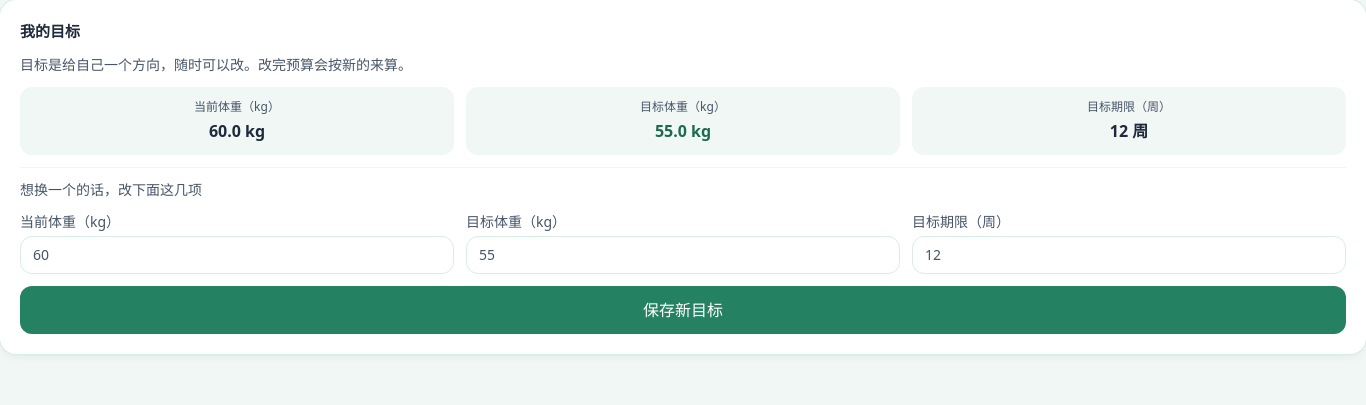
Test case: 「我的目标」卡片 · 提交（部分更新） › 成功后反馈文案中性（COPY.goalSaved）
Replace the text in the field with test id "goal-input-target" with "50" at (683,254), box x1=466 y1=236 x2=900 y2=274
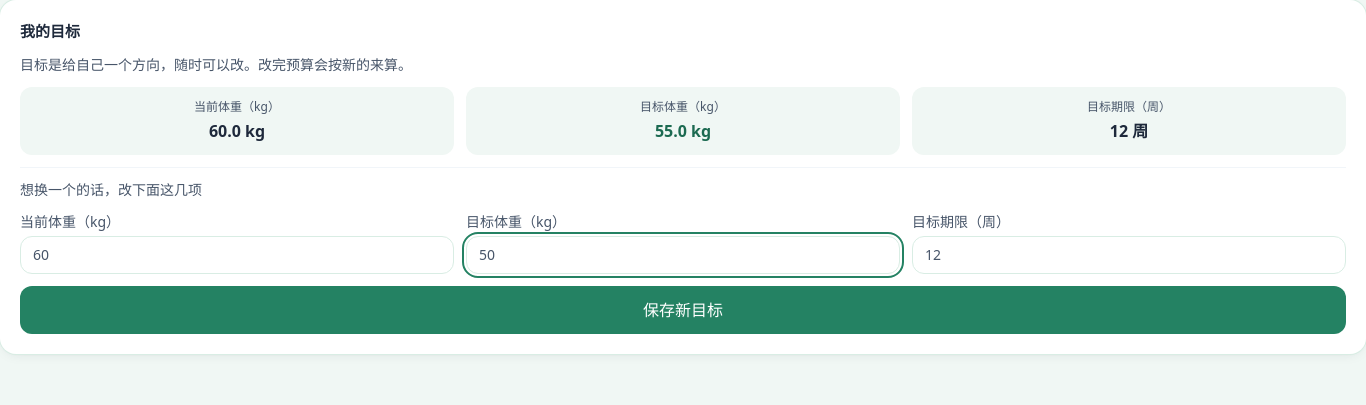
Click the button "保存新目标" at (683,310), box x1=20 y1=286 x2=1346 y2=334
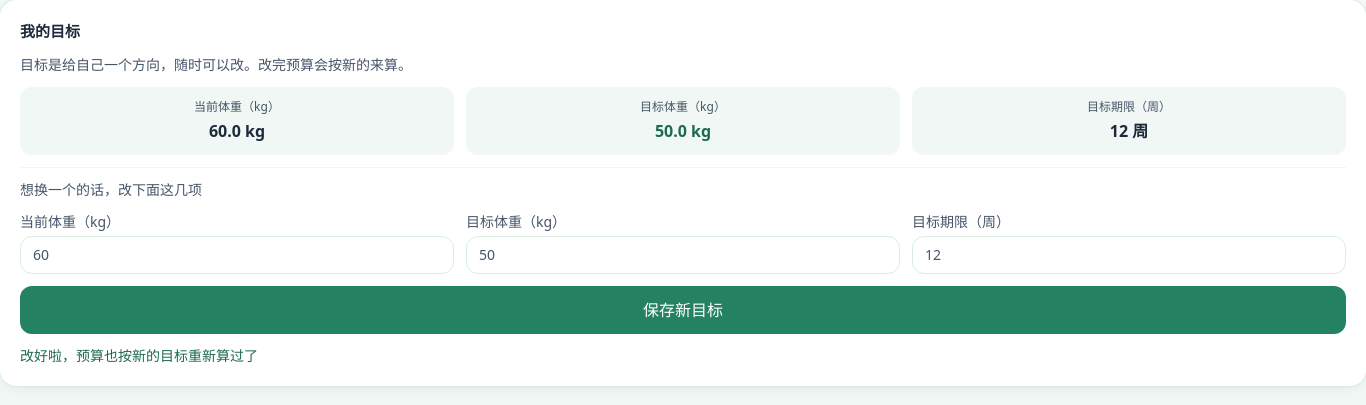
Result: the message with test id "goal-notice" reads "改好啦，预算也按新的目标重新算过了" at x1=20 y1=346 x2=258 y2=364
